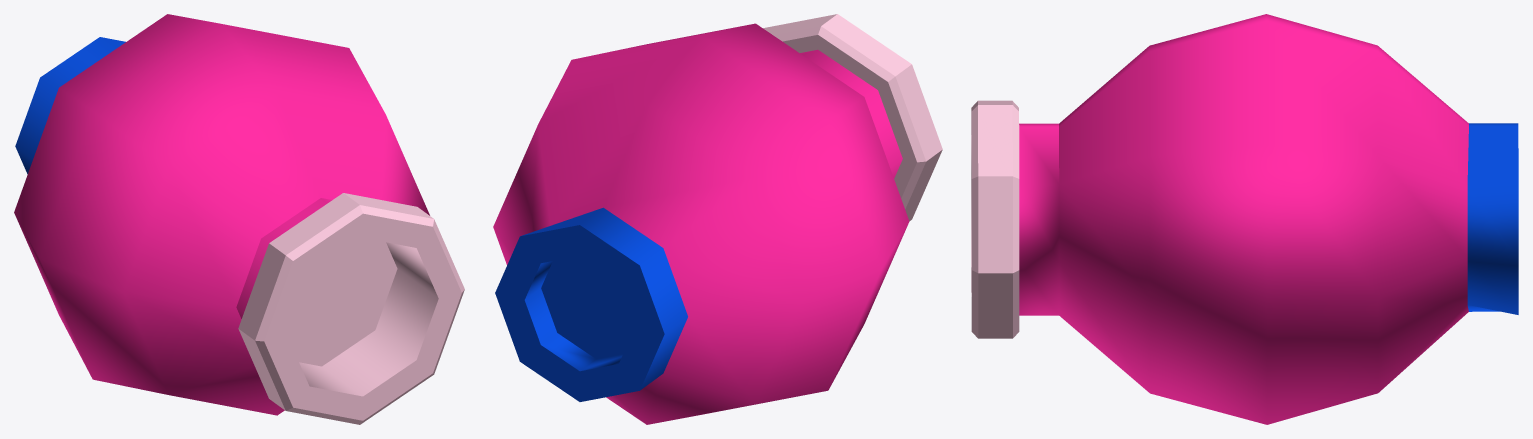
The model's file is OBS0110028.fbx.
The picture shows the model from 3 angles, left to right: view 1: azimuth 30°, elevation 25°; view 2: azimuth 150°, elevation 25°; view 3: azimuth 270°, elevation 25°; orthographic projection. The views are drawn at different scales.
Parts seen in each view (by area): view 1: smOBS0110028; view 2: smOBS0110028; view 3: smOBS0110028.
Part boxes in pixels (box(x1,y1,x2,y2)): smOBS0110028: box(14, 14, 464, 424); smOBS0110028: box(493, 14, 942, 424); smOBS0110028: box(971, 14, 1518, 424).
Size of the model in its own units: 231 by 231 by 289.
Materials: 1 (1 with a texture image).
